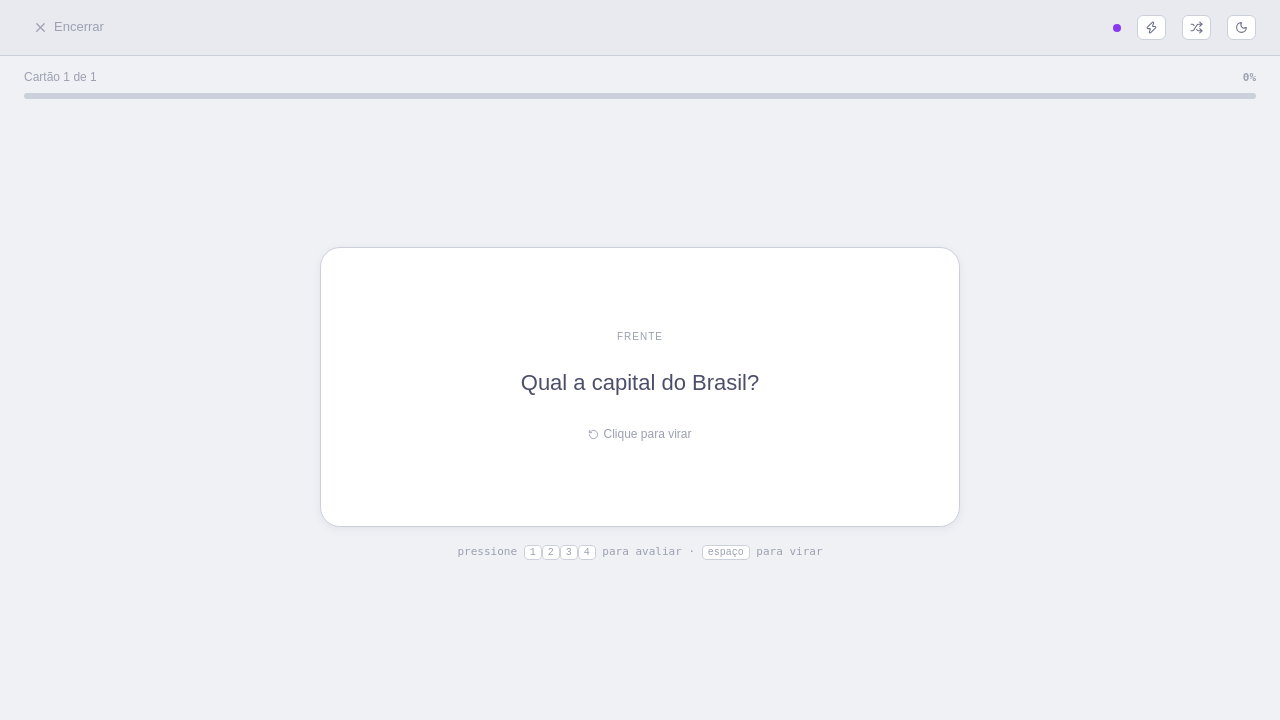
Test: ReviewPage › ao virar o card, mostra preview e botões de rating
Check: the text "FRENTE" is shown, box [617, 329, 663, 345]
Click the text "Clique para virar" at (640, 434), box [588, 425, 692, 444]
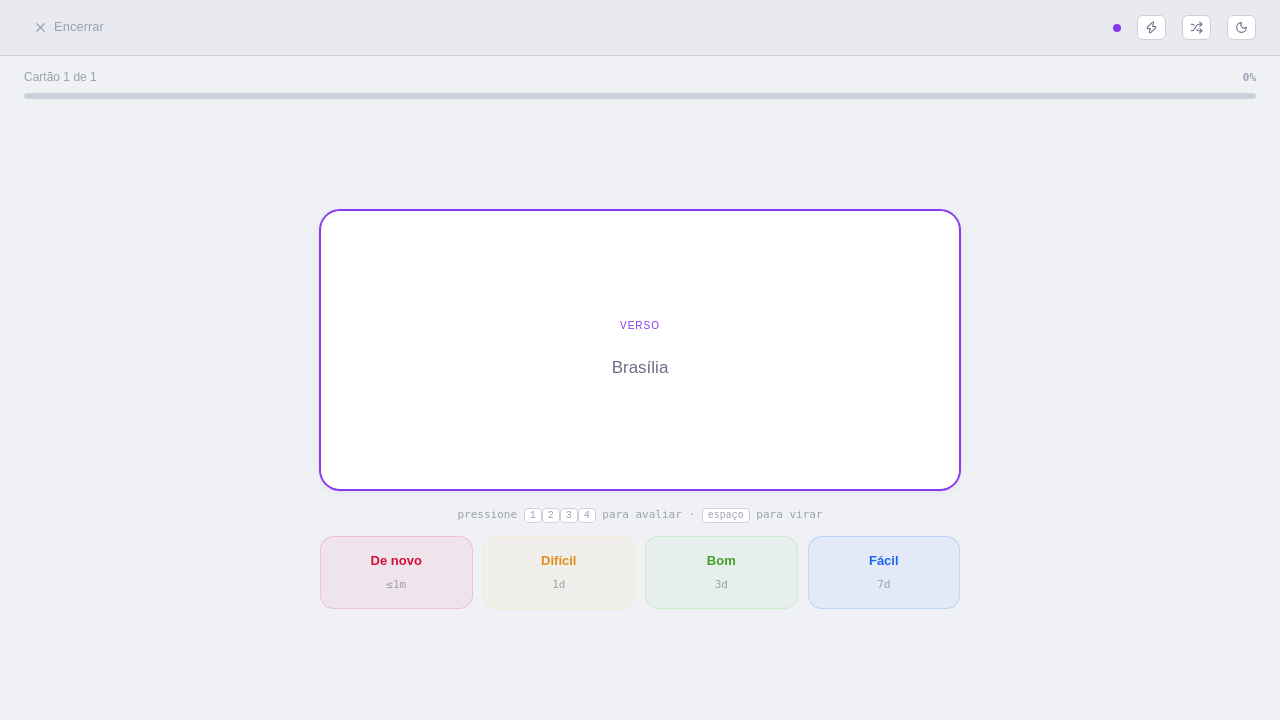
Check: the text "De novo" is shown, box [371, 551, 422, 572]
Check: the text "Difícil" is shown, box [541, 551, 576, 572]
Check: the text "Bom" is shown, box [707, 551, 736, 572]
